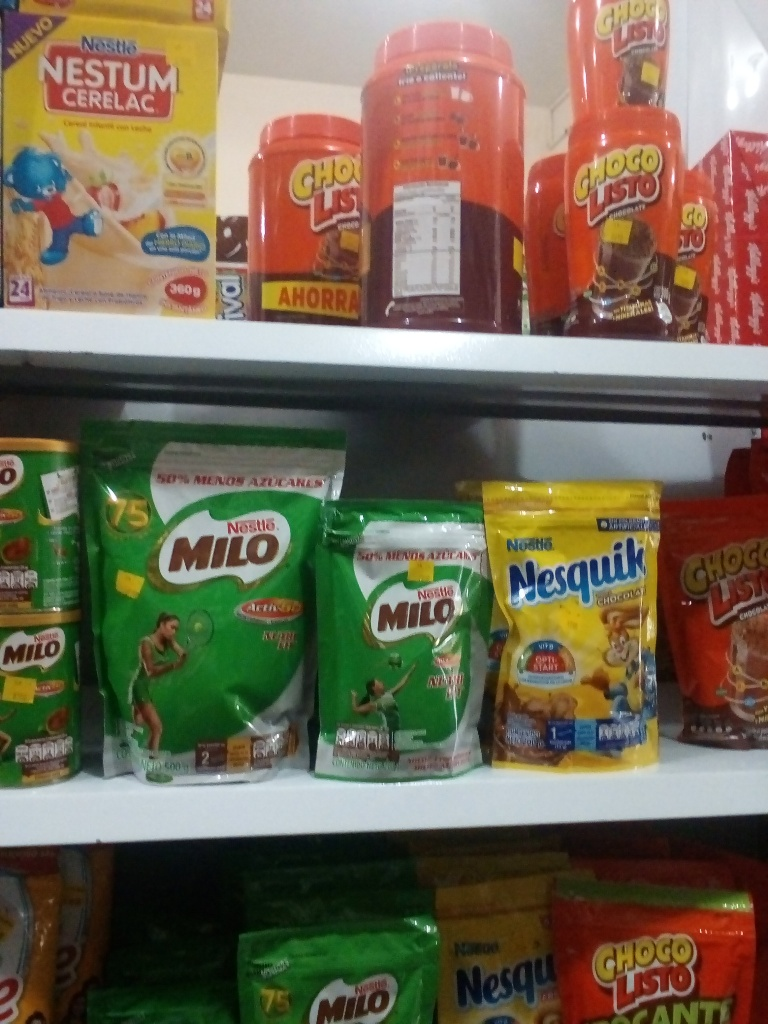COL0170103DYP20000: (662, 496, 767, 752)
COL0170103TRR00100: (363, 22, 527, 336)
COL0170103TRR30000: (562, 106, 681, 340)
COL0170203LAT20000: (1, 610, 83, 787)
COL0170205DYP20000: (313, 492, 504, 778)
COL0170205DYP50000: (76, 416, 337, 778)
COL0170303DYP20000: (480, 475, 660, 771)
